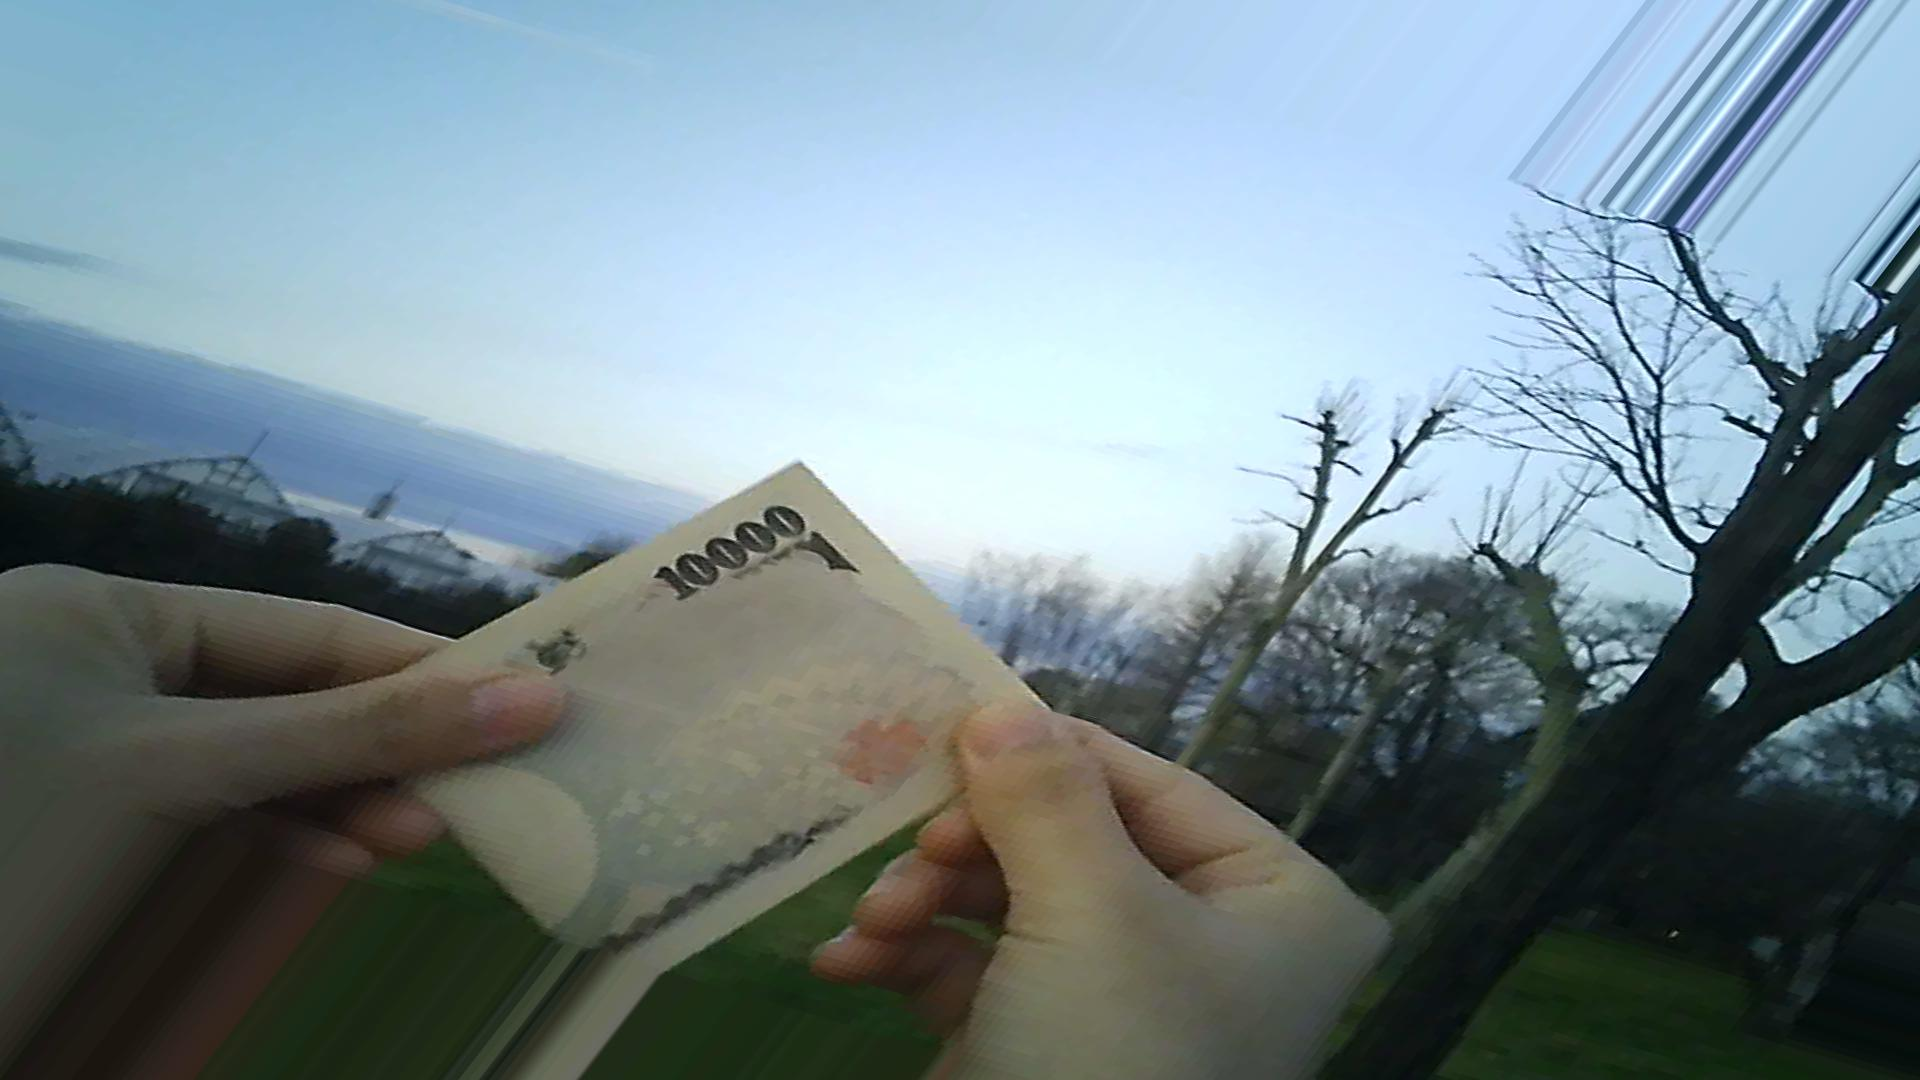10,000 Yen: (352, 475, 1036, 965)
